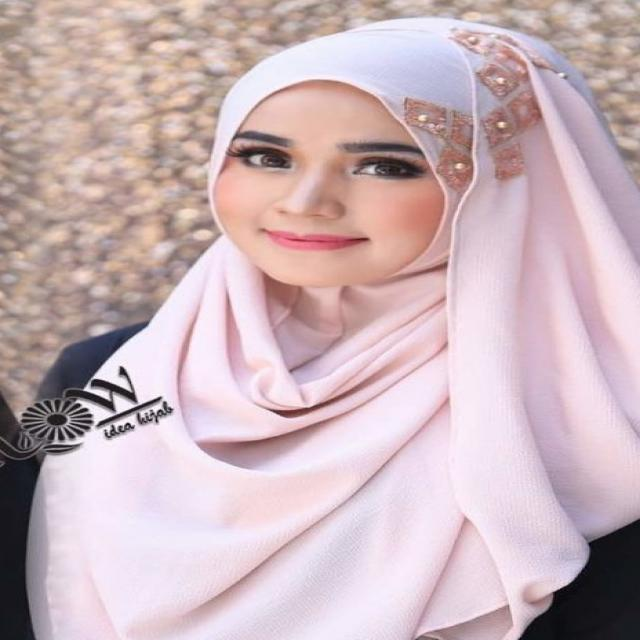head: (190, 14, 622, 288)
